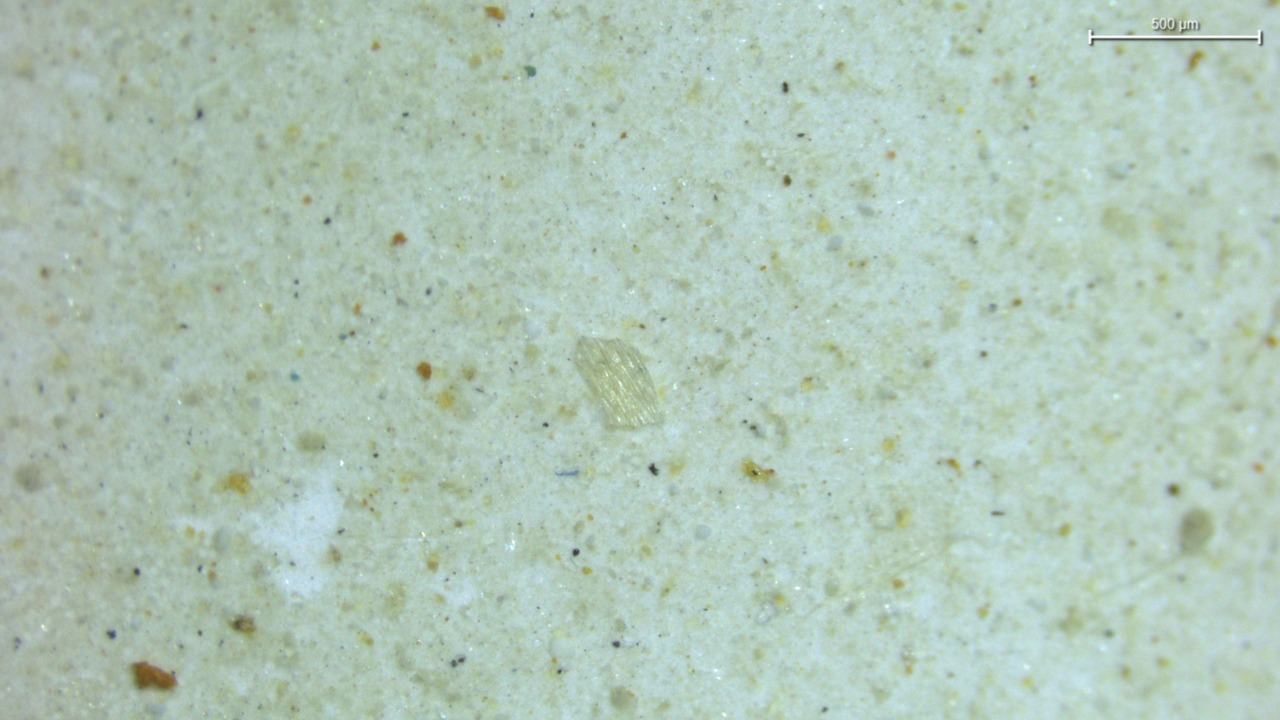microplastic_fragment: (574, 337, 661, 427)
